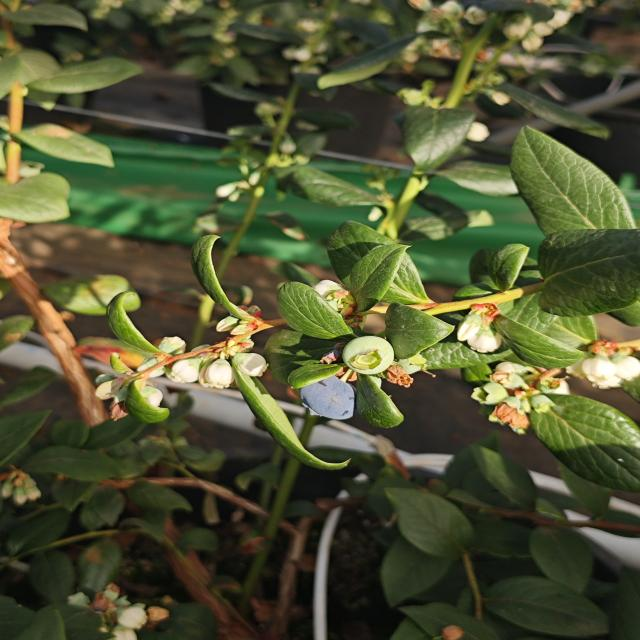ripe: (296, 371, 354, 418)
